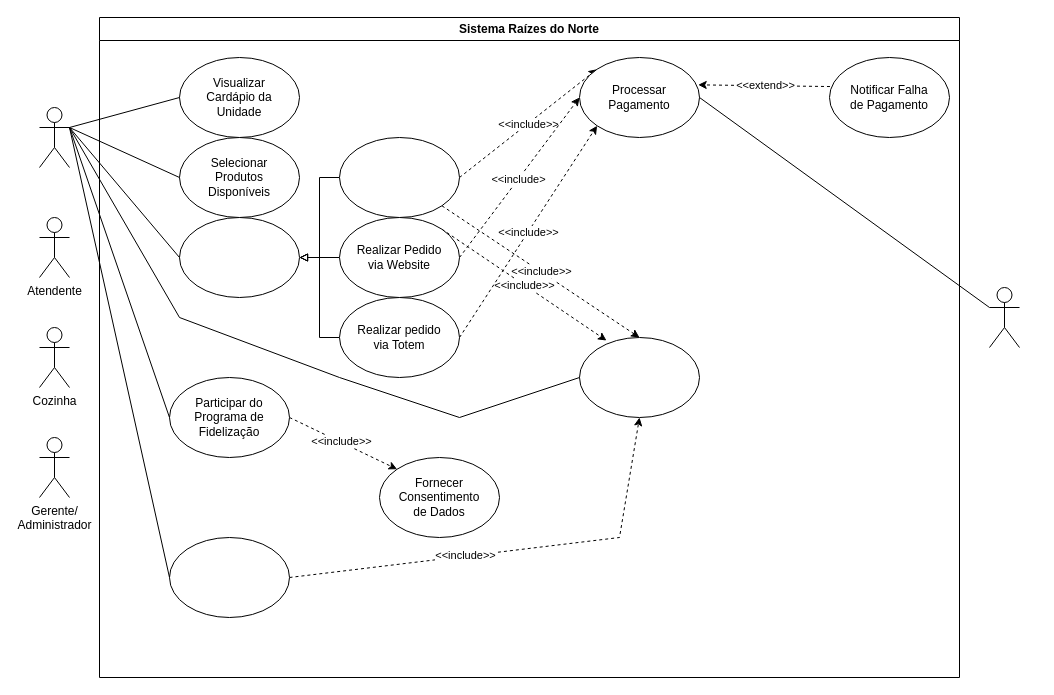
The diagram is 1054 pixels wide and 695 high, and some of its shapes have lost their labels. Here are the shapes that lost their labels. From the top down, the centre of each, then its label:
At point 54,137: "Cliente".
At point 399,177: "Realizar Pedido via Aplicativo".
At point 239,257: "Realizar Pedido".
At point 1004,317: "Sistemas de Pagamento Externo".
At point 639,377: "Realizar Login".
At point 229,577: "Acompanhar Status de Pedidos".
